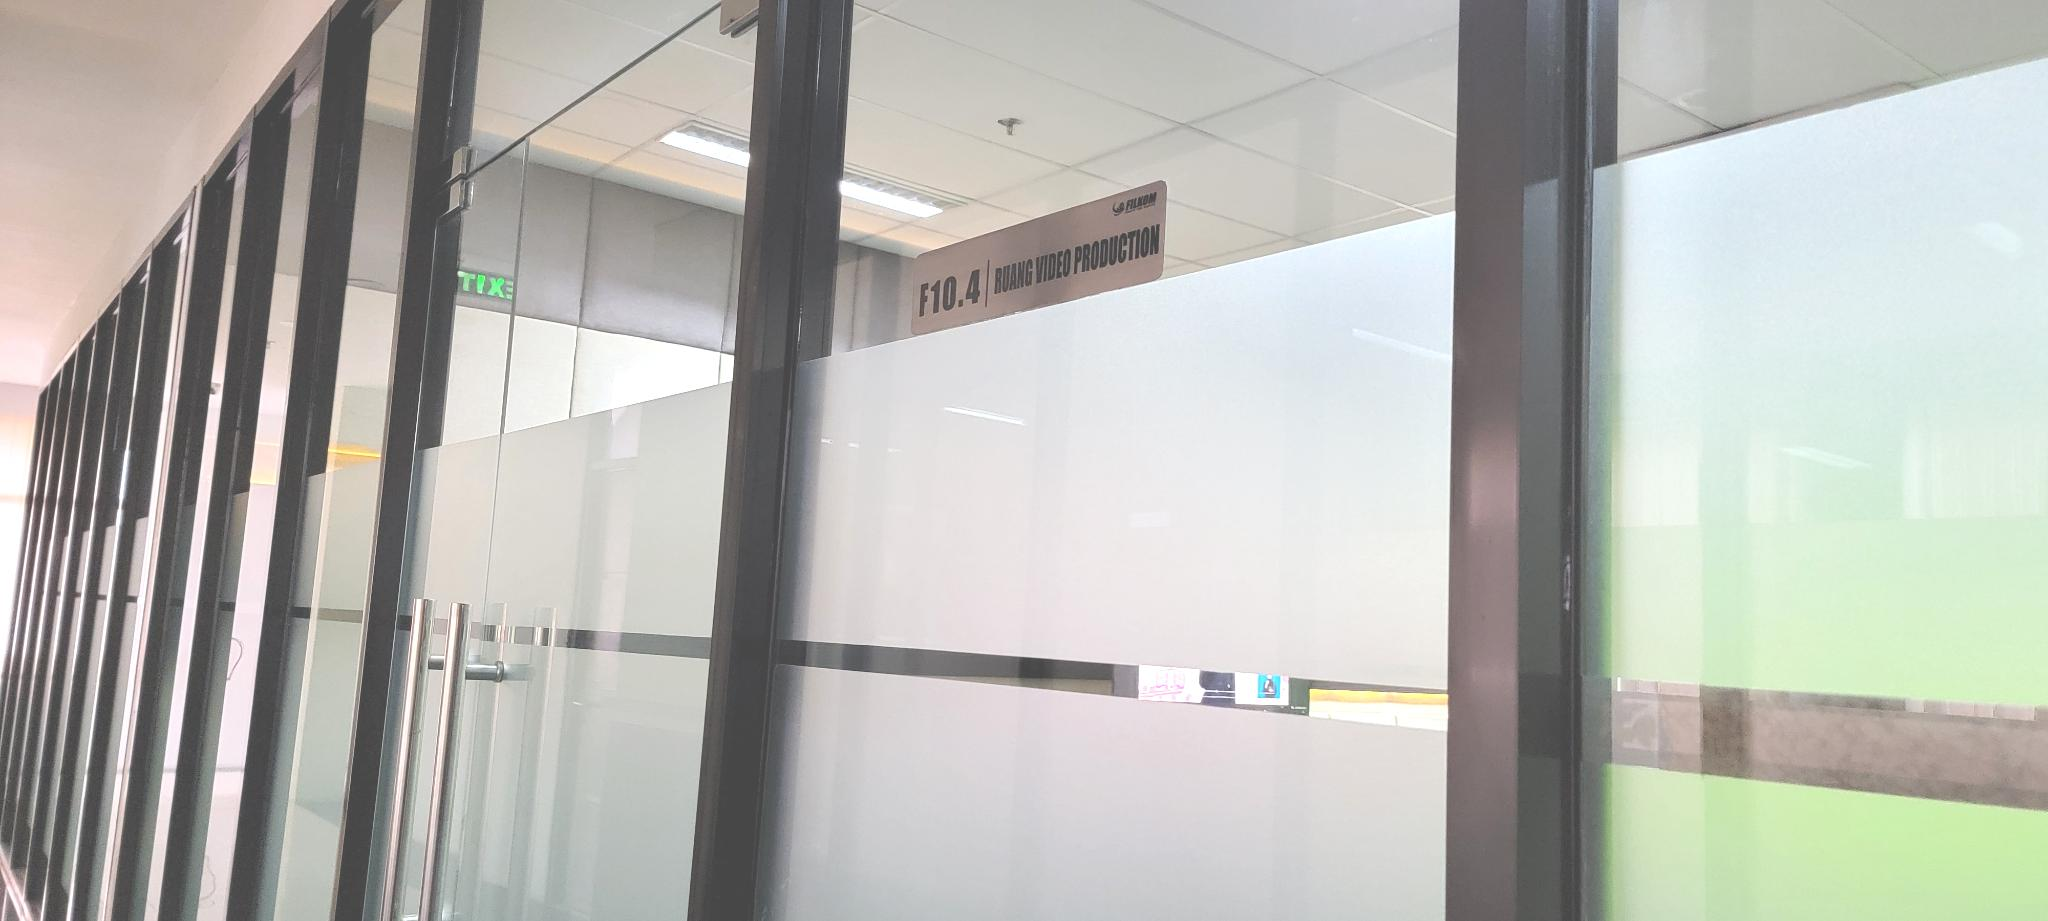plate: (906, 182, 1168, 342)
